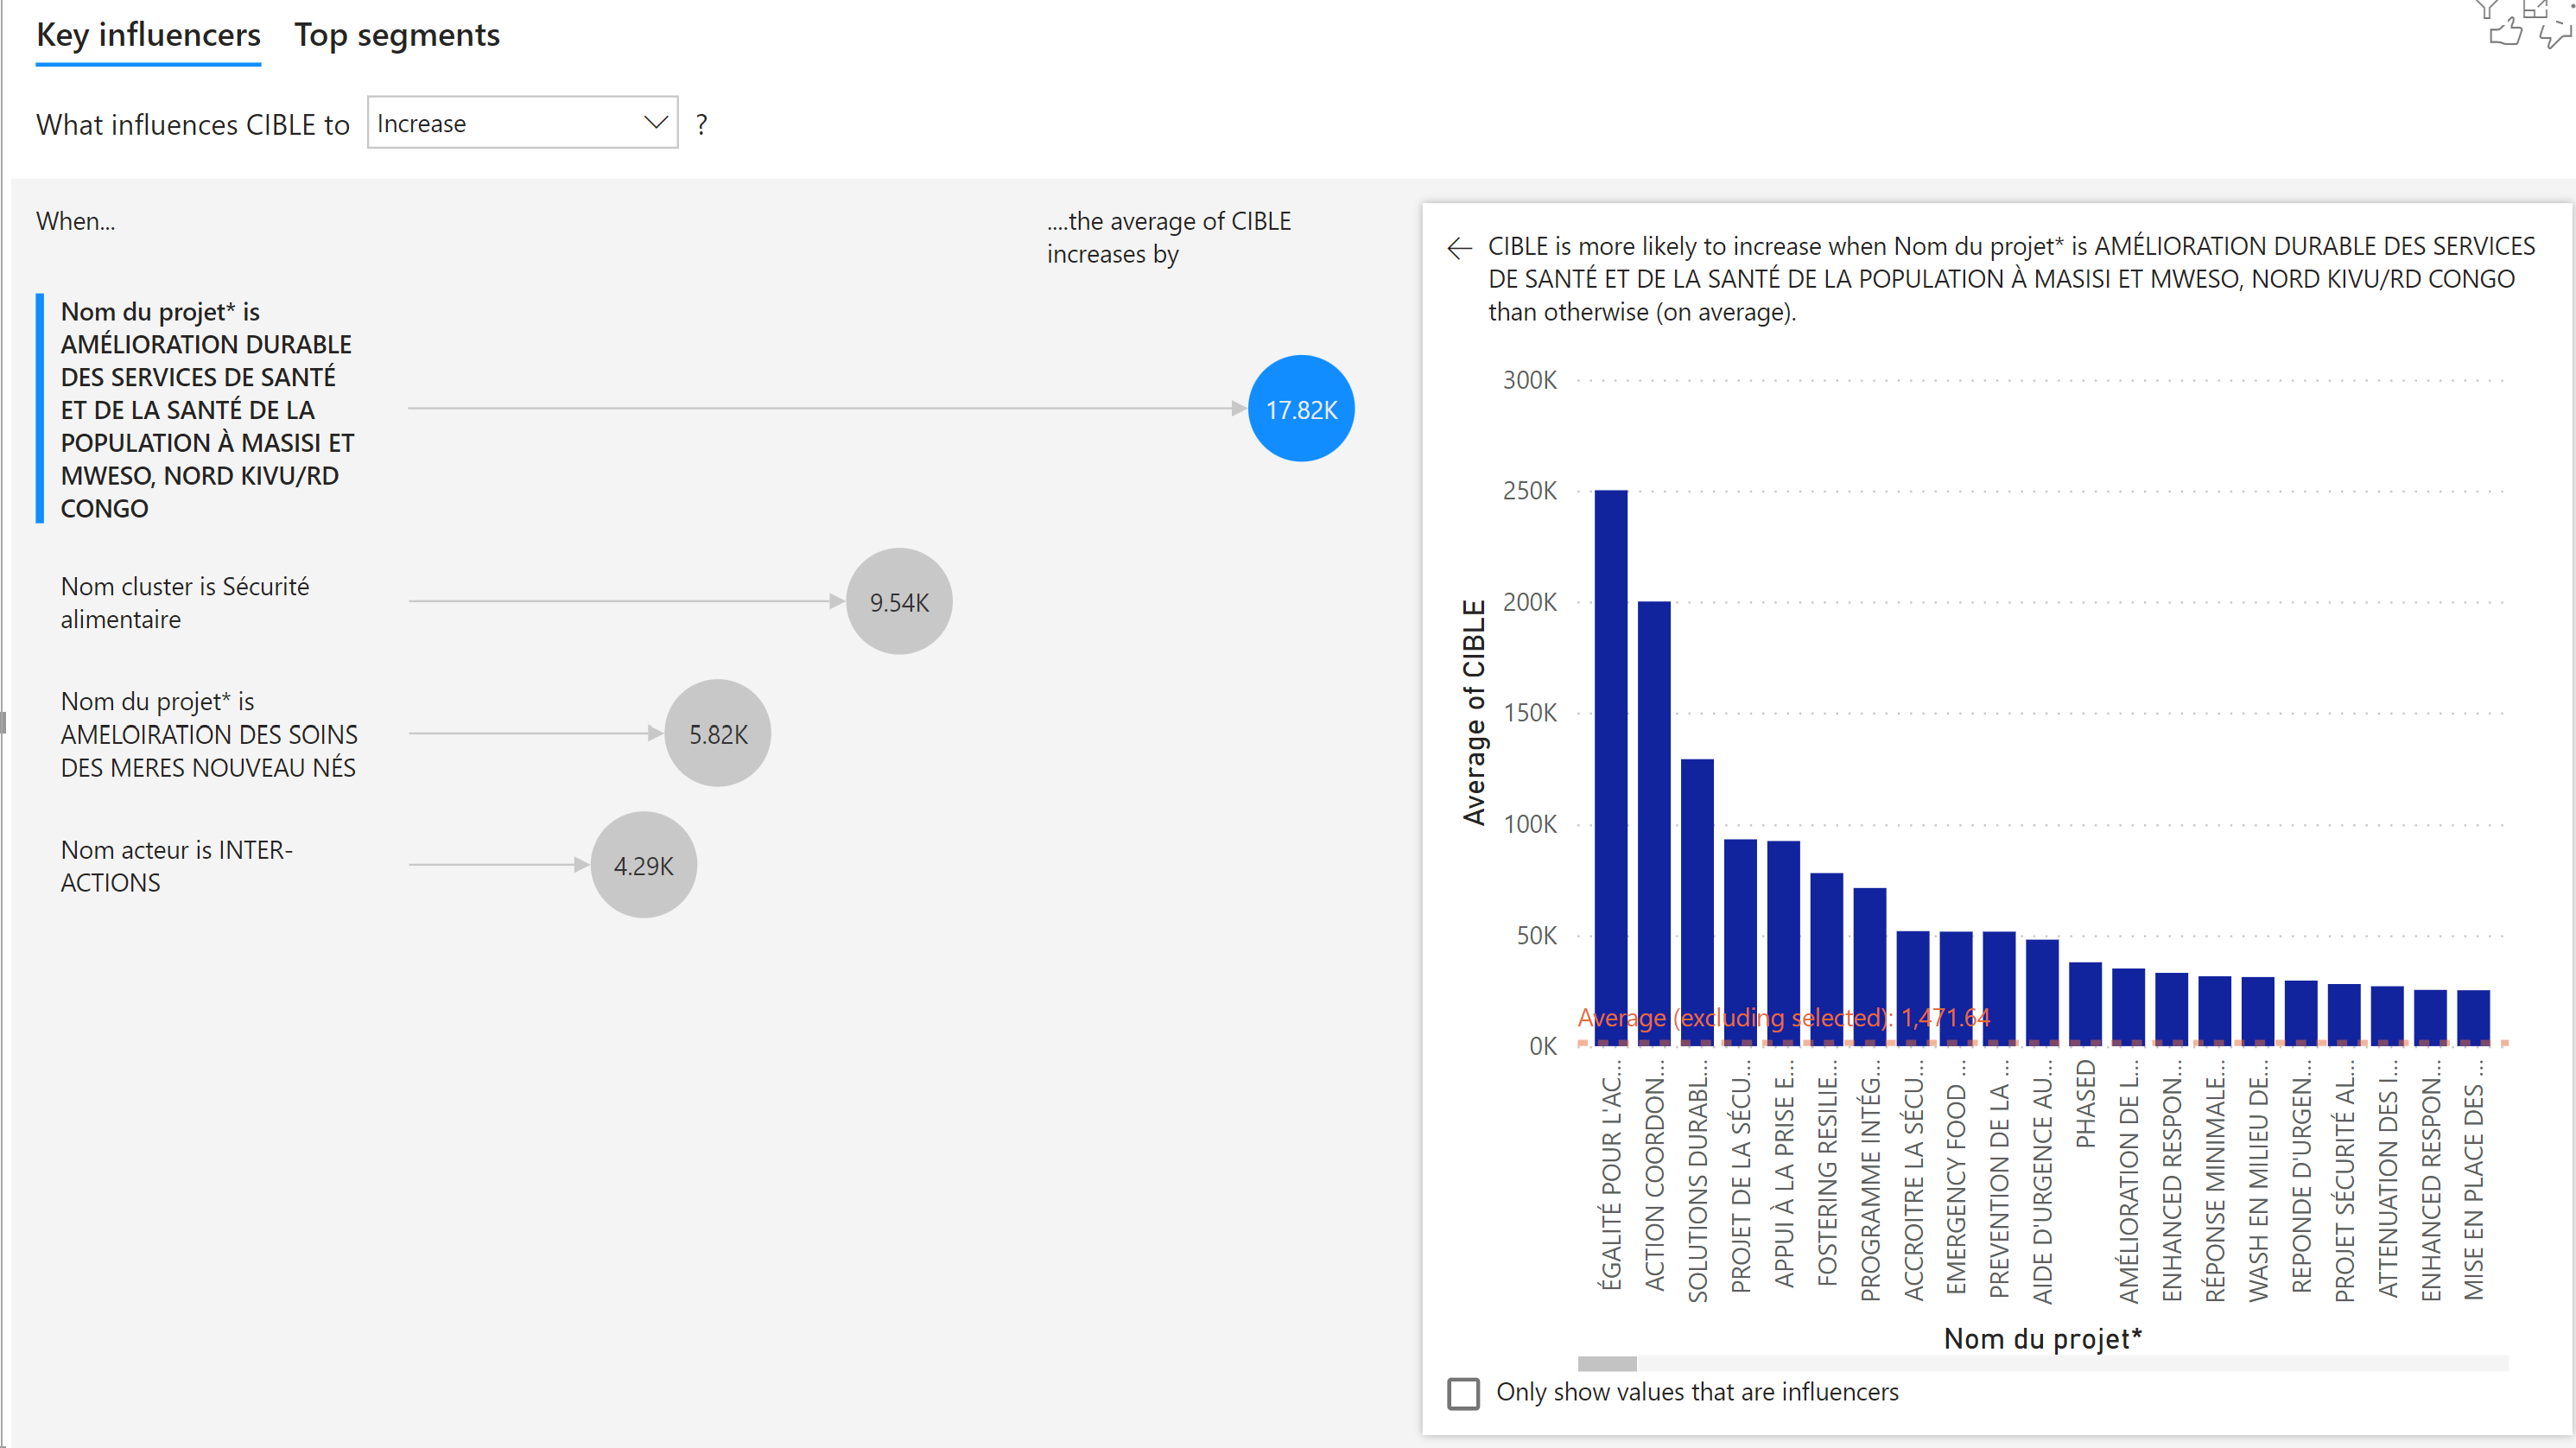

What the dashboard file says about the page in this screenshot:
{"tool":"powerbi","page":{"name":"Key Influencers","canvas":[1280,720],"ordinal":2},"visuals":[{"type":"keyDriversVisual","fields":{"Target":["rdc-3w-mars-2022.CIBLE"],"ExplainBy":["rdc-3w-mars-2022.Nom acteur","rdc-3w-mars-2022.Nom cluster","rdc-3w-mars-2022.Nom du projet*"]},"box":[9.7,0,1270.3,719.8],"z":0}]}

Visuals, with their boxes on the page's 1280x720 design canvas (x1, y1, x2, y2). These are canvas units, not pixel positions in the 2576x1448 screenshot, which may show the page scaled, cropped or inside an application window:
keyDriversVisual - rdc-3w-mars-2022.CIBLE x rdc-3w-mars-2022.Nom acteur: bbox(10, 0, 1280, 720)
